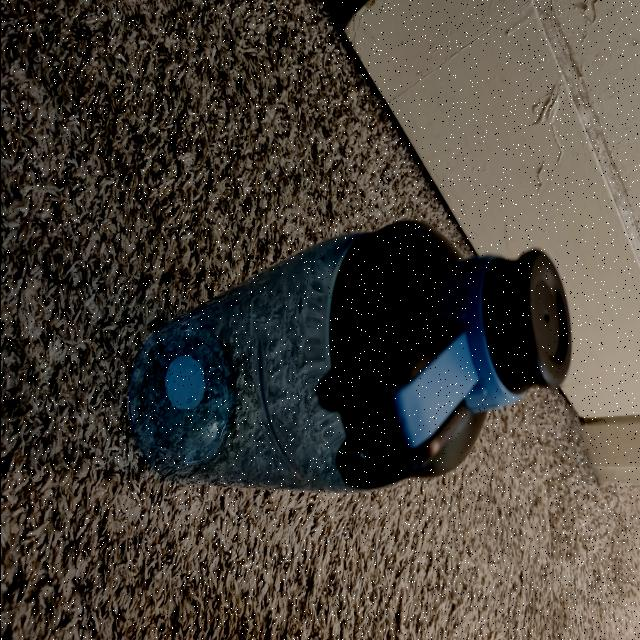bottle: (132, 233, 568, 496)
